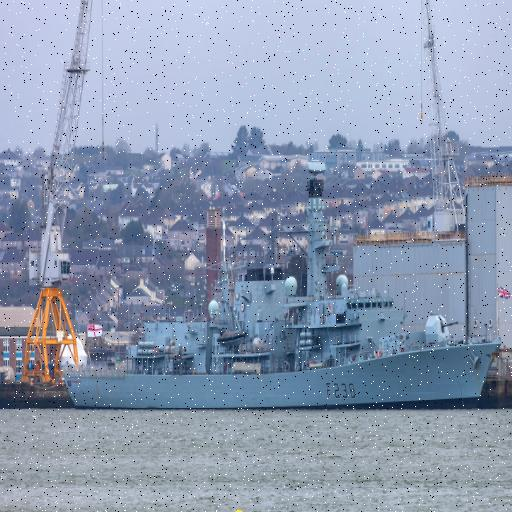Fragata: (61, 194, 504, 415)
